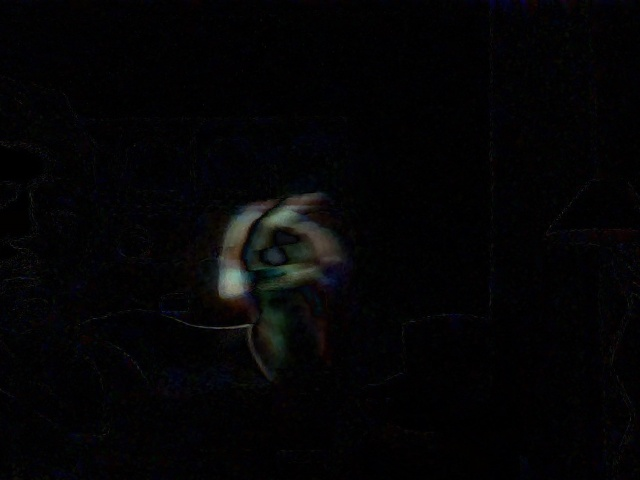hand_po: (213, 185, 354, 309)
